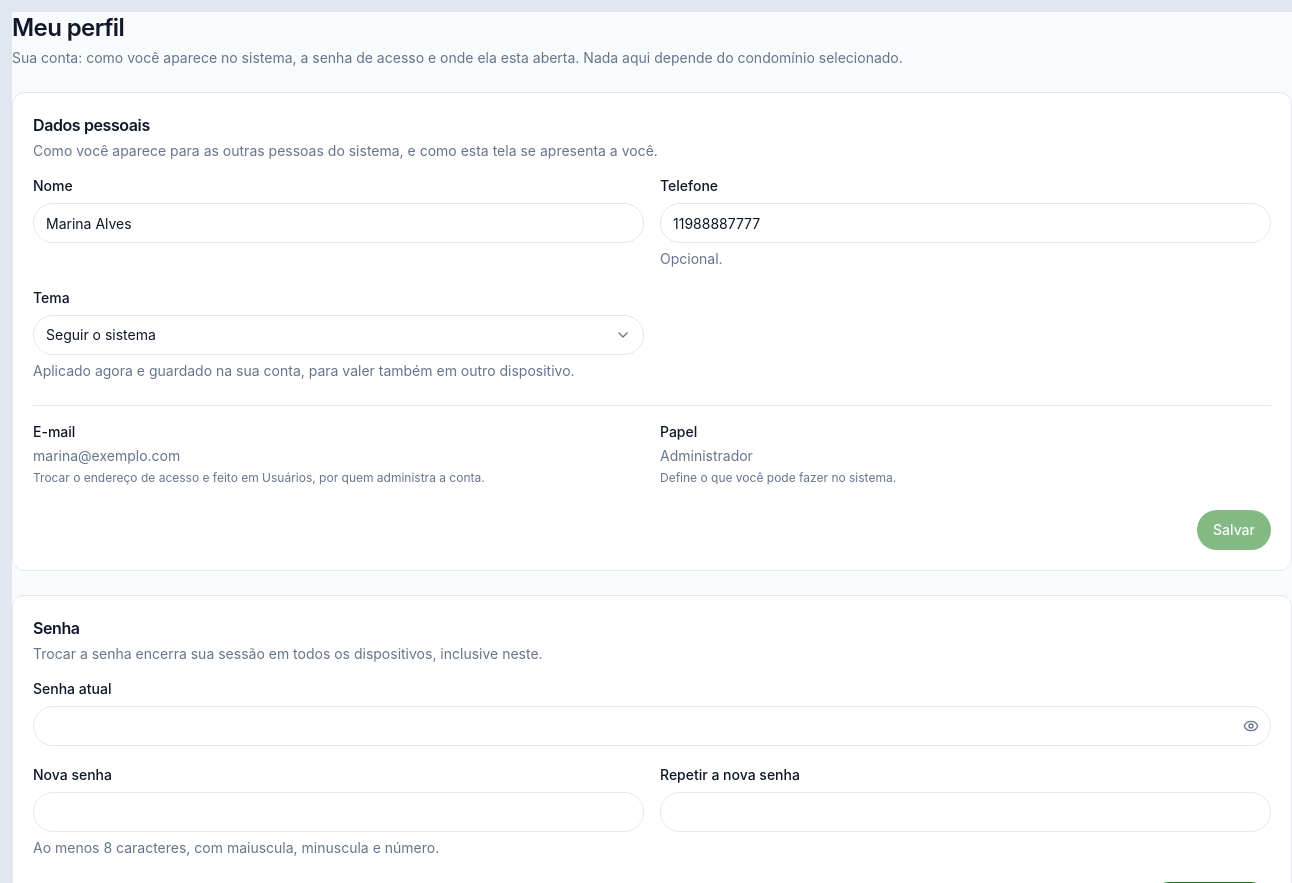
Test case: Dados pessoais › nome curto demais e barrado antes de chegar ao servidor
This screenshot has width=1292, height=883.
Replace the text in the field labelled "Nome" with "Ma": [338, 223] box [33, 203, 644, 243]
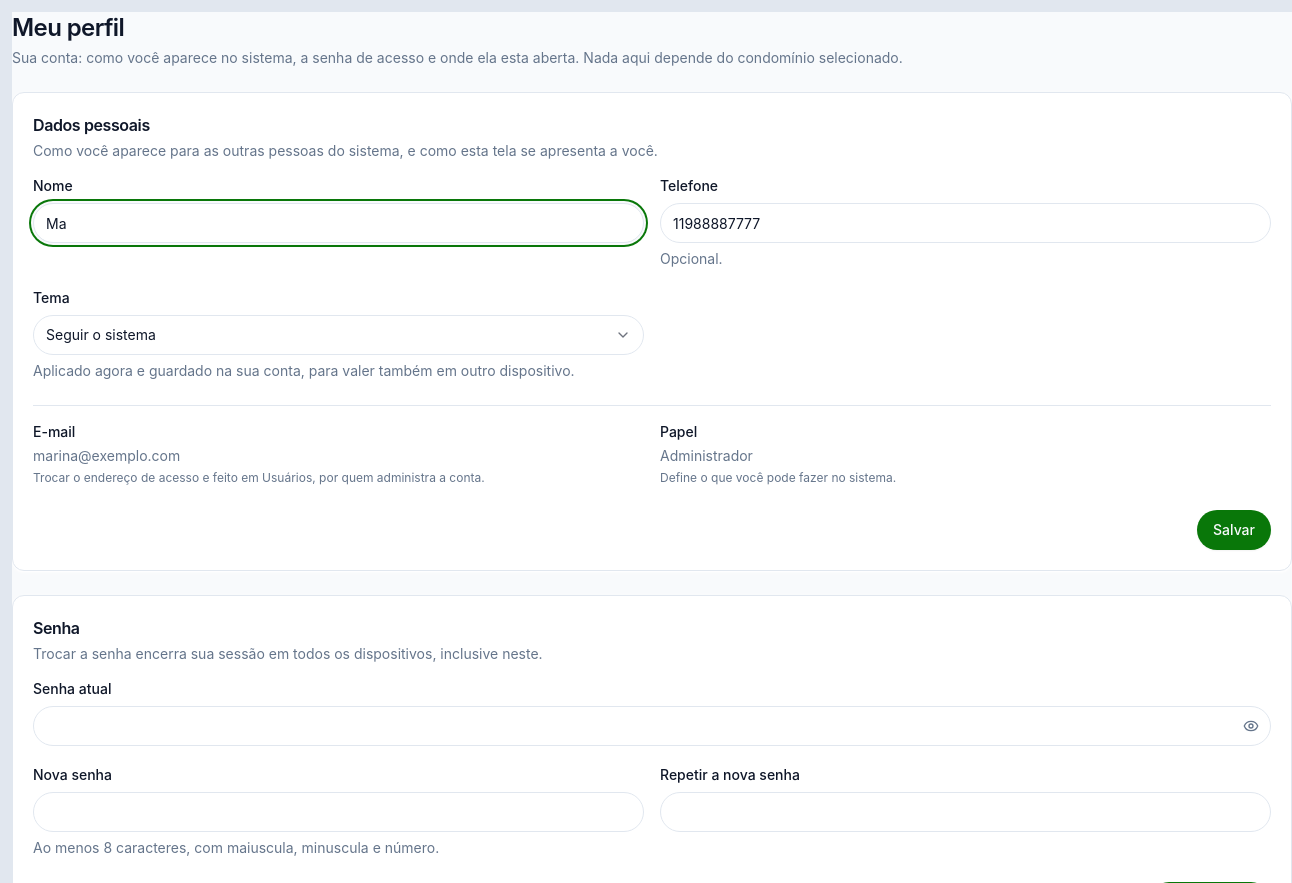
Click the button "Salvar": [1234, 530] box [1197, 510, 1271, 550]
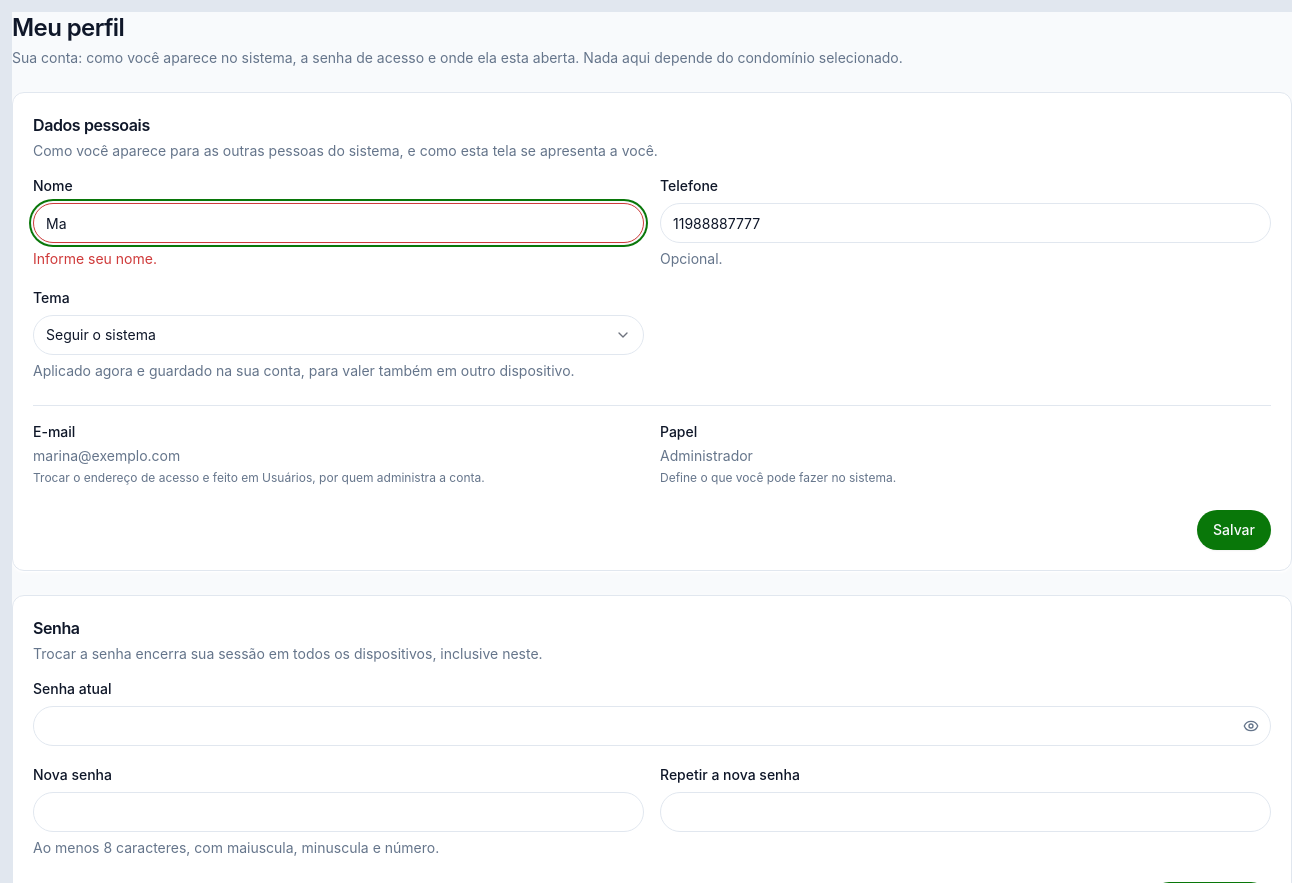
Result: the text "Informe seu nome." is shown at [33, 250, 157, 267]
